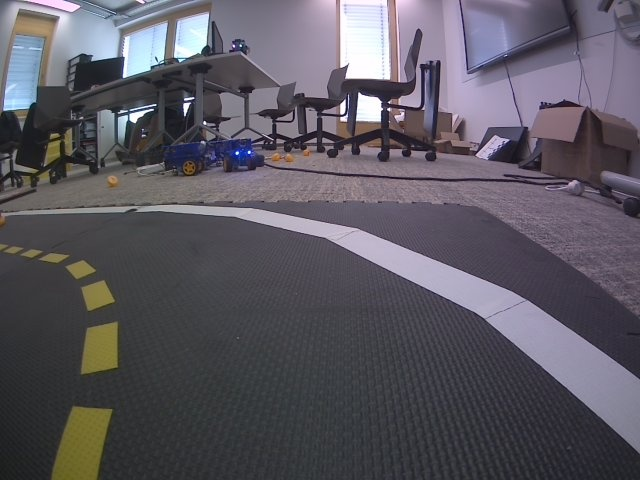Bot: (163, 143, 207, 175), (221, 137, 258, 171), (230, 37, 248, 53)
